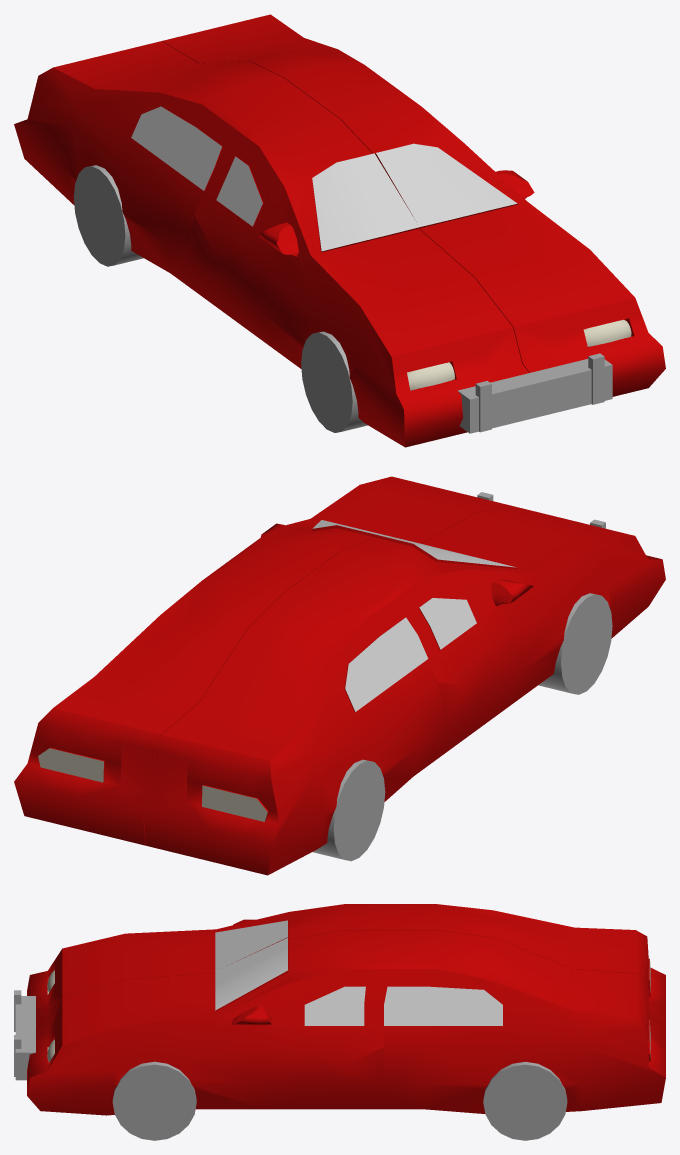
File: Rouge Car.fbx
3 views of the same model, one above another, from view 1: azimuth 30°, elevation 25°; view 2: azimuth 150°, elevation 25°; view 3: azimuth 270°, elevation 25° (orthographic). The views are drawn at different scales.
Parts seen in each view (by area): view 1: polySurface8; view 2: polySurface8; view 3: polySurface8.
Part boxes in pixels (x1,y1,x2,y2): polySurface8: (14, 14, 665, 447); polySurface8: (14, 476, 665, 875); polySurface8: (14, 904, 665, 1140).
Size of the model in its own units: 1.74 by 1.23 by 4.59.
